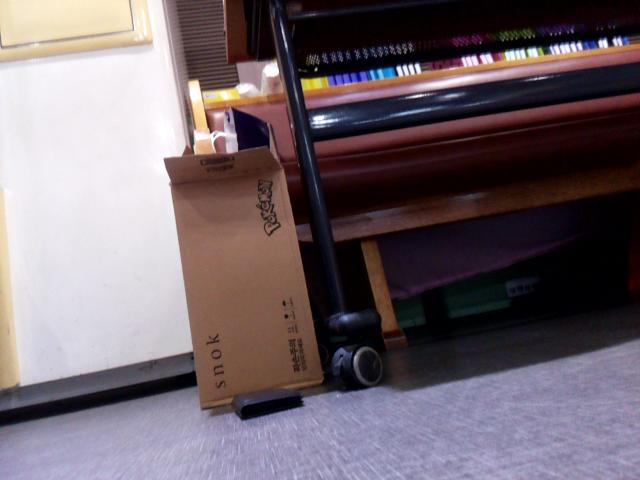wallet: (221, 377, 310, 421)
